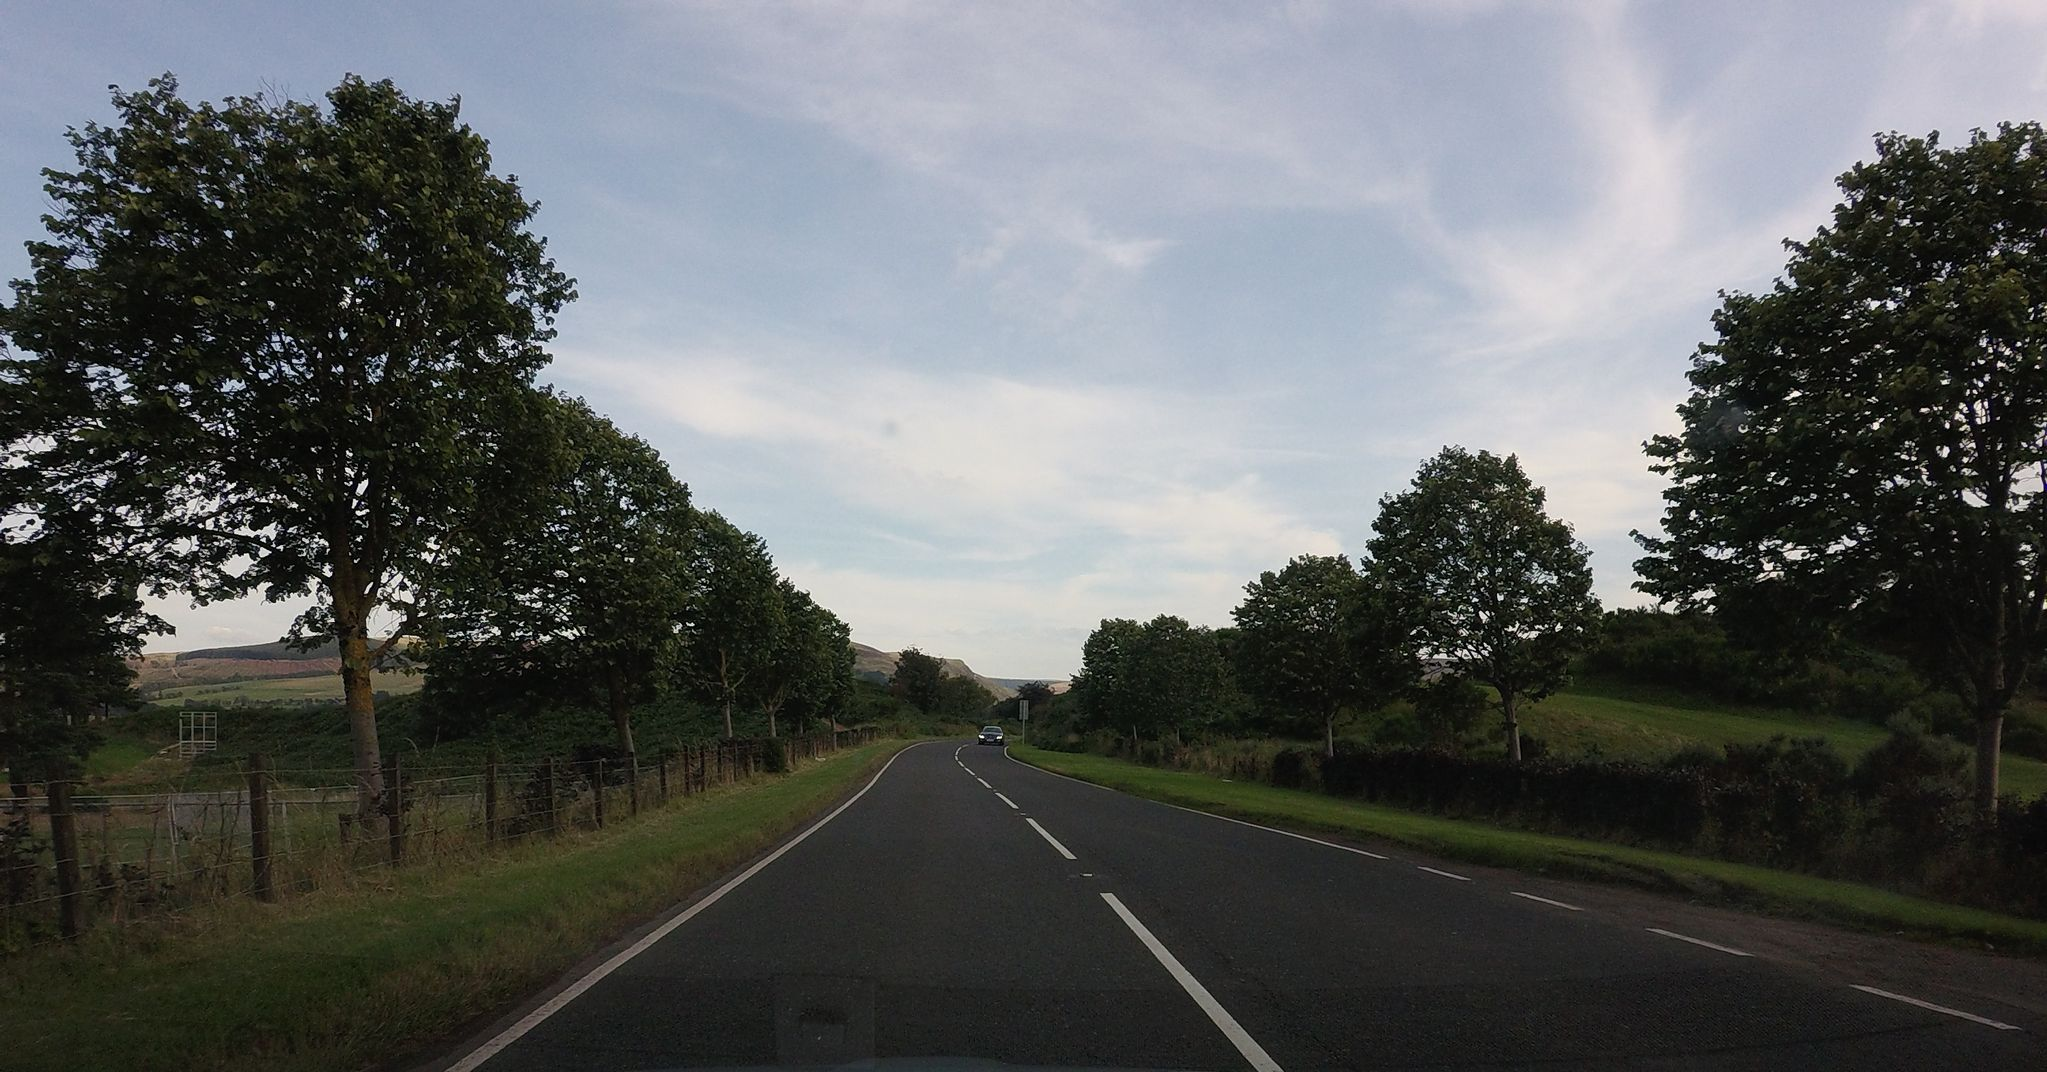car: (977, 725, 1005, 744)
